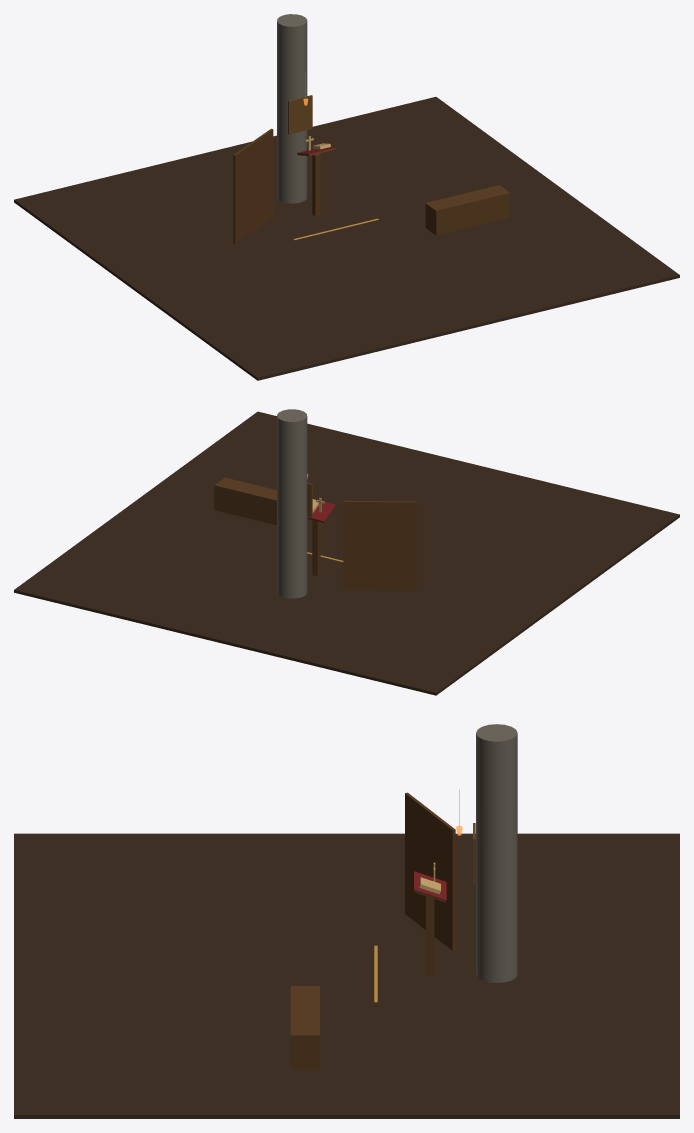
The model's file is sacrament-confession.glb.
3 renders of one model, top to bottom at view 1: azimuth 30°, elevation 25°; view 2: azimuth 150°, elevation 25°; view 3: azimuth 270°, elevation 25°, orthographic. The views are drawn at different scales.
Parts seen in each view (by area): view 1: floor, column, screen, bench, icon-board, analoy-stand; view 2: floor, screen, column, bench, analoy-stand; view 3: floor, column, screen, bench, analoy-stand.
Part boxes in pixels (x1=…): floor: x1=14, y1=97, x2=679, y2=380; column: x1=277, y1=14, x2=307, y2=203; screen: x1=233, y1=128, x2=273, y2=243; bench: x1=425, y1=185, x2=509, y2=235; icon-board: x1=288, y1=95, x2=312, y2=134; analoy-stand: x1=312, y1=153, x2=320, y2=216; floor: x1=14, y1=411, x2=679, y2=695; screen: x1=343, y1=500, x2=416, y2=590; column: x1=277, y1=409, x2=307, y2=598; bench: x1=214, y1=477, x2=276, y2=525; analoy-stand: x1=312, y1=520, x2=320, y2=576; floor: x1=14, y1=833, x2=679, y2=1118; column: x1=476, y1=724, x2=517, y2=982; screen: x1=405, y1=792, x2=455, y2=950; bench: x1=290, y1=986, x2=319, y2=1069; analoy-stand: x1=426, y1=896, x2=434, y2=975.
Size of the model in its own units: 8 by 3.25 by 8.
